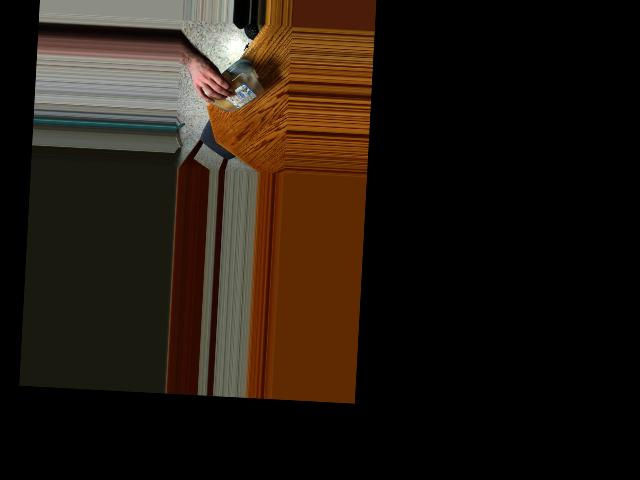cheese: (198, 58, 265, 113)
